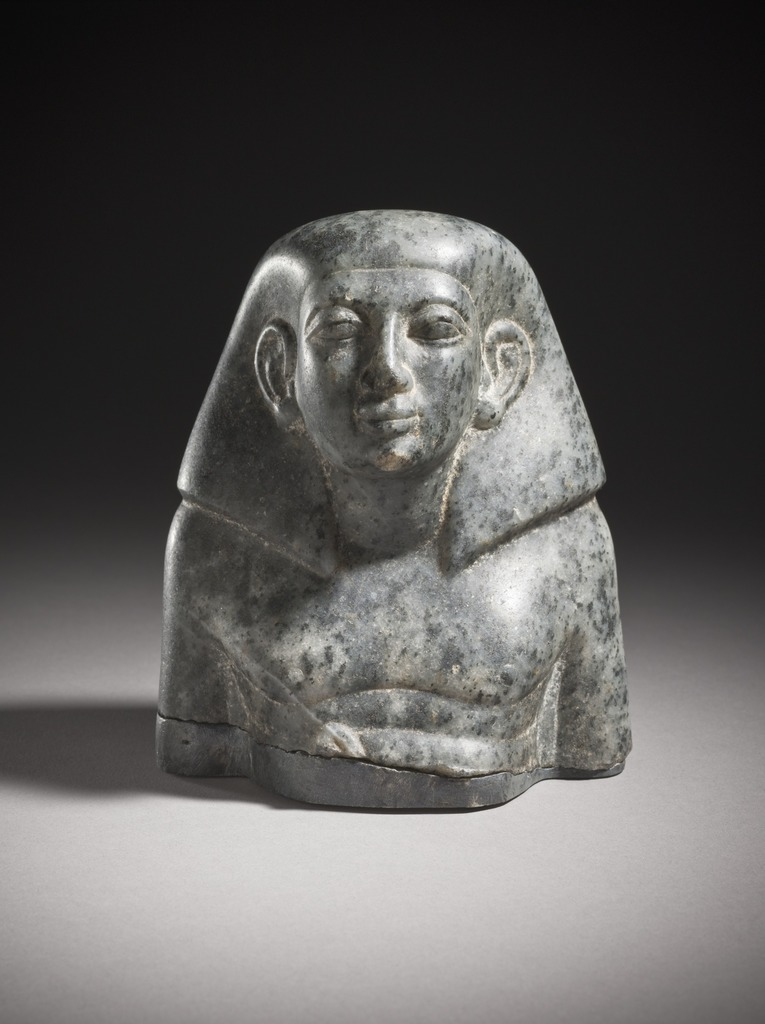Human-face: (294, 266, 479, 469)
